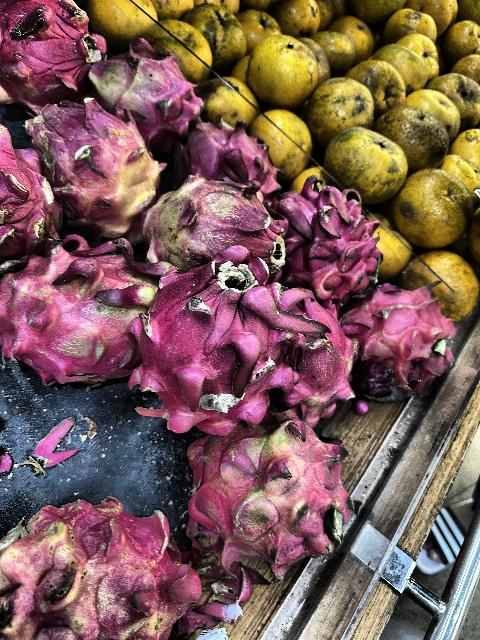buah-naga-belum-matang: (181, 402, 363, 578), (0, 490, 190, 640), (27, 107, 177, 233), (5, 250, 143, 382), (145, 173, 291, 269), (92, 42, 192, 136)
buah-naga-matang: (142, 262, 318, 432), (266, 178, 392, 310), (338, 276, 450, 396), (0, 1, 108, 98), (286, 288, 356, 412), (0, 128, 68, 254), (183, 124, 282, 194)
